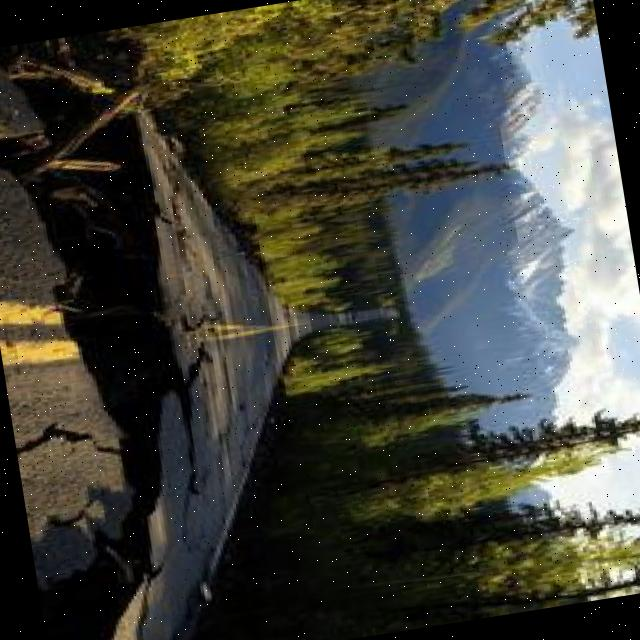road collapse: (0, 26, 368, 640)
